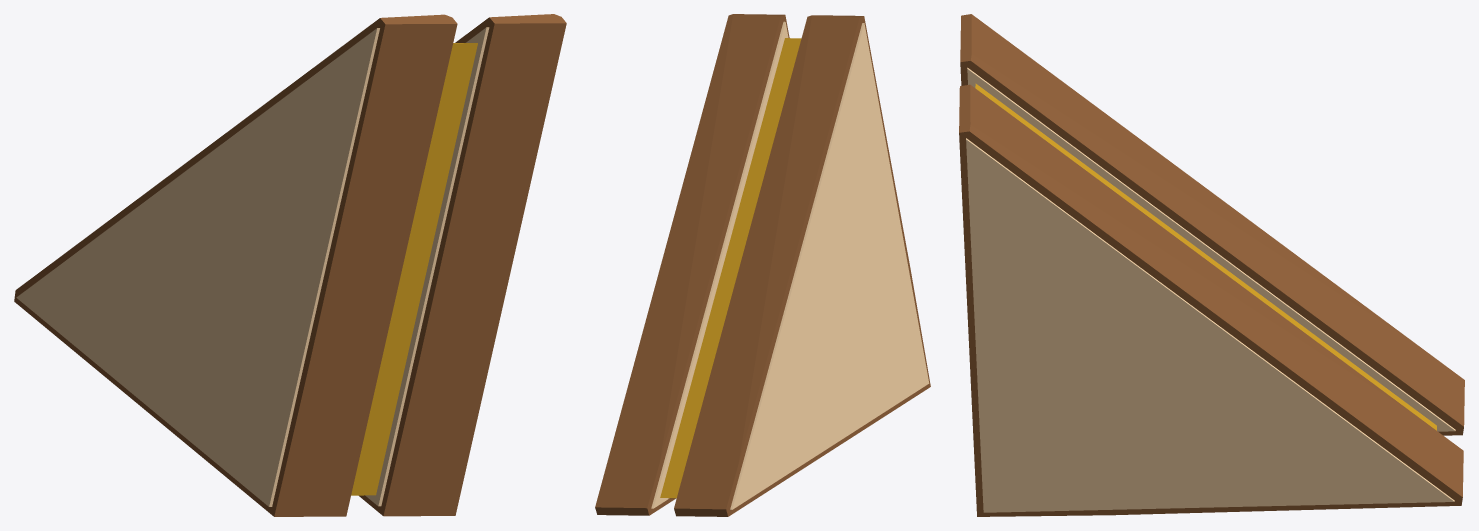
The model's file is food_2_sandwich.fbx.
3 views of the same model, side by side, from view 1: azimuth 30°, elevation 25°; view 2: azimuth 150°, elevation 25°; view 3: azimuth 270°, elevation 25° (orthographic). The views are drawn at different scales.
Visible parts, largest first — view 1: food_sandwich; view 2: food_sandwich; view 3: food_sandwich.
Part boxes in pixels (bbox=[...]): food_sandwich: bbox=[14, 14, 566, 516]; food_sandwich: bbox=[595, 14, 930, 516]; food_sandwich: bbox=[959, 14, 1464, 516].
Size of the model in its own units: 33.49 by 58.61 by 57.36.
